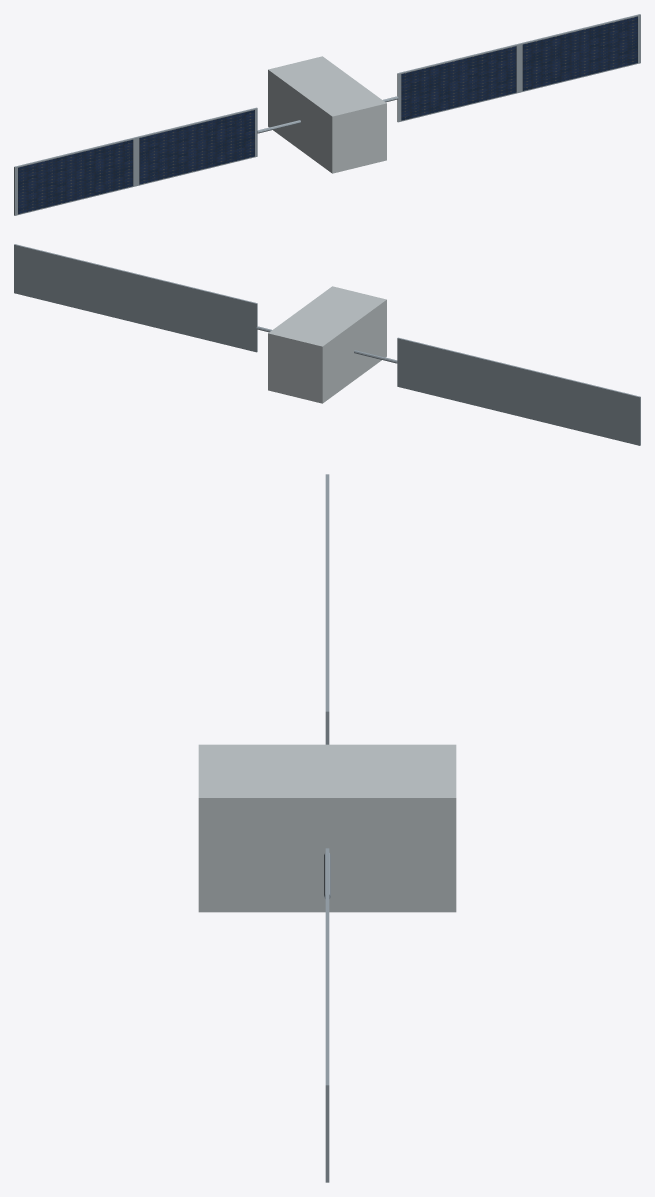
File: ref-hs-601m-26857.glb
3 views of the same model, one above another, from view 1: azimuth 30°, elevation 25°; view 2: azimuth 150°, elevation 25°; view 3: azimuth 270°, elevation 25° (orthographic). The views are drawn at different scales.
Visible parts, largest first — view 1: Photovoltaic laminates (×4), Spacecraft body, Array frame (×4); view 2: Array frame (×4), Spacecraft body; view 3: Spacecraft body, Array frame.
Boxes of the visible parts, x1,y1,x2,y2 form: Photovoltaic laminates (×4): [18, 16, 637, 214]; Spacecraft body: [268, 56, 386, 173]; Array frame (×4): [14, 14, 640, 215]; Array frame (×4): [14, 244, 640, 445]; Spacecraft body: [268, 286, 386, 403]; Spacecraft body: [198, 744, 456, 912]; Array frame: [325, 967, 329, 1182].
Bounding box in the file's own units: 26.4 × 2.3 × 4.7.
3 materials, 1 textured.
